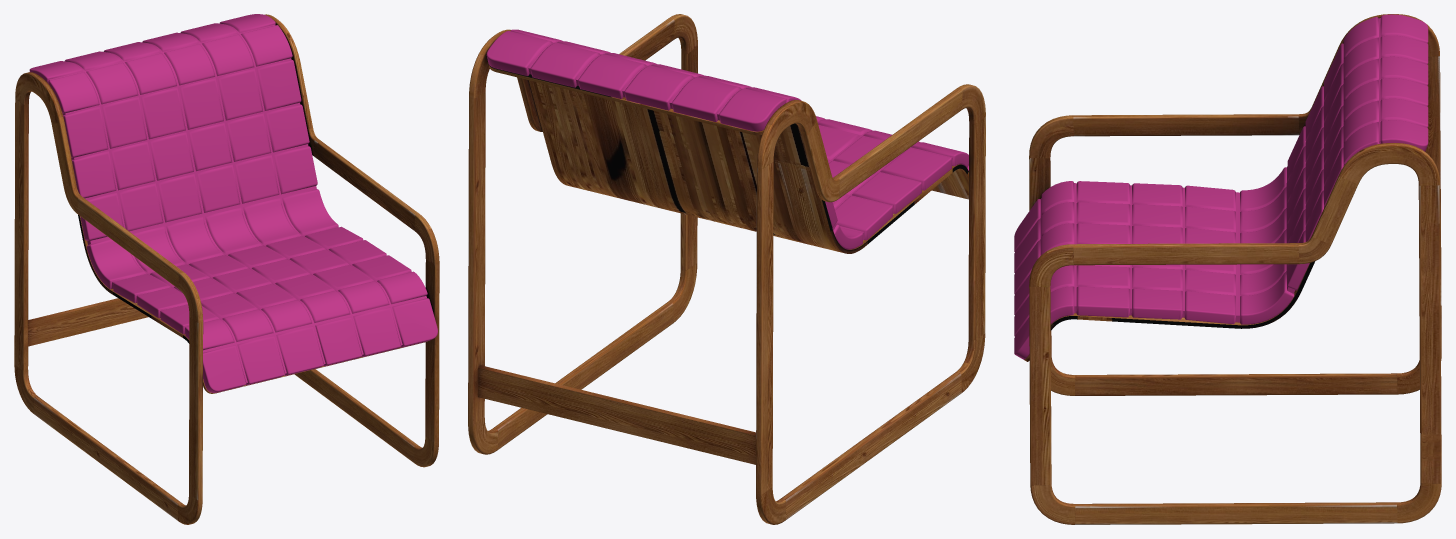
The model's file is BeachChair.glb.
The picture shows the model from 3 angles, left to right: view 1: azimuth 30°, elevation 25°; view 2: azimuth 150°, elevation 25°; view 3: azimuth 270°, elevation 25°; orthographic projection. The views are drawn at different scales.
Visible parts, largest first — view 1: Object001_Material #5_0_4; view 2: Object001_Material #5_0_4; view 3: Object001_Material #5_0_4.
Boxes of the visible parts, x1,y1,x2,y2 form: Object001_Material #5_0_4: [14, 14, 439, 524]; Object001_Material #5_0_4: [468, 14, 985, 524]; Object001_Material #5_0_4: [1014, 14, 1441, 524].
Bounding box in the file's own units: 7.43 × 10.07 × 10.19.
Materials: 2 (1 with a texture image).
